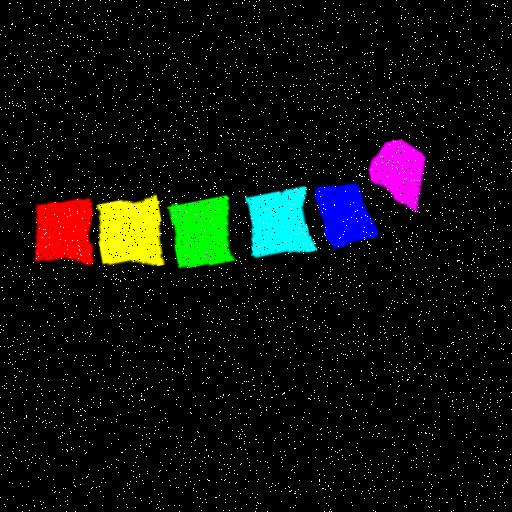L1: (38, 197, 94, 263)
L2: (98, 193, 166, 264)
L3: (171, 193, 238, 264)
L4: (247, 183, 318, 253)
L5: (318, 180, 378, 245)
S1: (371, 136, 426, 206)
